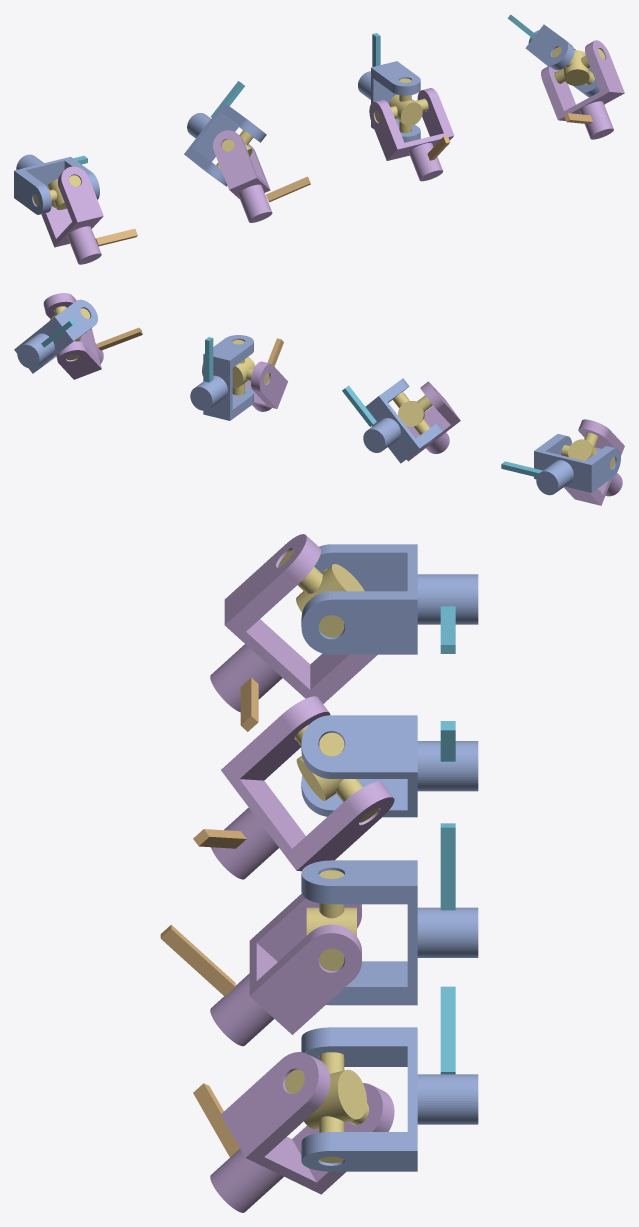
Rendered from hooke_pose_demo.glb.
The picture shows the model from 3 angles, top to bottom: view 1: azimuth 30°, elevation 25°; view 2: azimuth 150°, elevation 25°; view 3: azimuth 270°, elevation 25°; orthographic projection. The views are drawn at different scales.
Parts seen in each view (by area): view 1: fork_yoke_output_phi0, fork_yoke_output_phi90, fork_yoke_output_phi135, fork_yoke_output_phi45, fork_yoke_input_phi45, fork_yoke_input_phi0, fork_yoke_input_phi90, fork_yoke_input_phi135, cross_spider_phi90, cross_spider_phi135, cross_spider_phi0, output_index_phi45 (+1 smaller); view 2: fork_yoke_input_phi0, fork_yoke_input_phi90, fork_yoke_input_phi45, fork_yoke_input_phi135, fork_yoke_output_phi135, fork_yoke_output_phi0, fork_yoke_output_phi45, fork_yoke_output_phi90, cross_spider_phi45, cross_spider_phi0, cross_spider_phi90, input_index_phi45 (+3 smaller); view 3: fork_yoke_input_phi0, fork_yoke_output_phi135, fork_yoke_output_phi45, fork_yoke_input_phi135, fork_yoke_output_phi90, fork_yoke_input_phi90, fork_yoke_input_phi45, fork_yoke_output_phi0, cross_spider_phi135, cross_spider_phi0, cross_spider_phi45, cross_spider_phi90 (+4 smaller).
Boxes of the visible parts, bbox=[...] form: fork_yoke_output_phi0: bbox=[41, 166, 103, 264]; fork_yoke_output_phi90: bbox=[369, 88, 454, 181]; fork_yoke_output_phi135: bbox=[541, 40, 624, 139]; fork_yoke_output_phi45: bbox=[213, 130, 272, 222]; fork_yoke_input_phi45: bbox=[184, 102, 266, 186]; fork_yoke_input_phi0: bbox=[14, 154, 99, 214]; fork_yoke_input_phi90: bbox=[358, 61, 420, 142]; fork_yoke_input_phi135: bbox=[525, 24, 599, 97]; cross_spider_phi90: bbox=[375, 78, 428, 133]; cross_spider_phi135: bbox=[552, 47, 604, 85]; cross_spider_phi0: bbox=[33, 175, 80, 209]; output_index_phi45: bbox=[266, 176, 310, 202]; fork_yoke_input_phi0: bbox=[534, 434, 620, 495]; fork_yoke_input_phi90: bbox=[190, 335, 253, 420]; fork_yoke_input_phi45: bbox=[363, 378, 443, 463]; fork_yoke_input_phi135: bbox=[14, 299, 97, 373]; fork_yoke_output_phi135: bbox=[43, 293, 103, 379]; fork_yoke_output_phi0: bbox=[563, 419, 624, 505]; fork_yoke_output_phi45: bbox=[406, 381, 460, 461]; fork_yoke_output_phi90: bbox=[202, 361, 287, 411]; cross_spider_phi45: bbox=[392, 392, 432, 435]; cross_spider_phi0: bbox=[561, 432, 615, 468]; cross_spider_phi90: bbox=[232, 340, 269, 395]; input_index_phi45: bbox=[342, 385, 376, 426]; fork_yoke_input_phi0: bbox=[301, 544, 478, 654]; fork_yoke_output_phi135: bbox=[210, 1052, 394, 1212]; fork_yoke_output_phi45: bbox=[211, 696, 394, 879]; fork_yoke_input_phi135: bbox=[301, 1027, 478, 1171]; fork_yoke_output_phi90: bbox=[210, 893, 361, 1046]; fork_yoke_input_phi90: bbox=[301, 860, 478, 1005]; fork_yoke_input_phi45: bbox=[301, 715, 478, 817]; fork_yoke_output_phi0: bbox=[210, 534, 377, 712]; cross_spider_phi135: bbox=[285, 1052, 368, 1163]; cross_spider_phi0: bbox=[278, 549, 364, 637]; cross_spider_phi45: bbox=[294, 725, 378, 822]; cross_spider_phi90: bbox=[306, 870, 356, 970].
Size of the model in its own units: 260 by 47.44 by 62.87.
